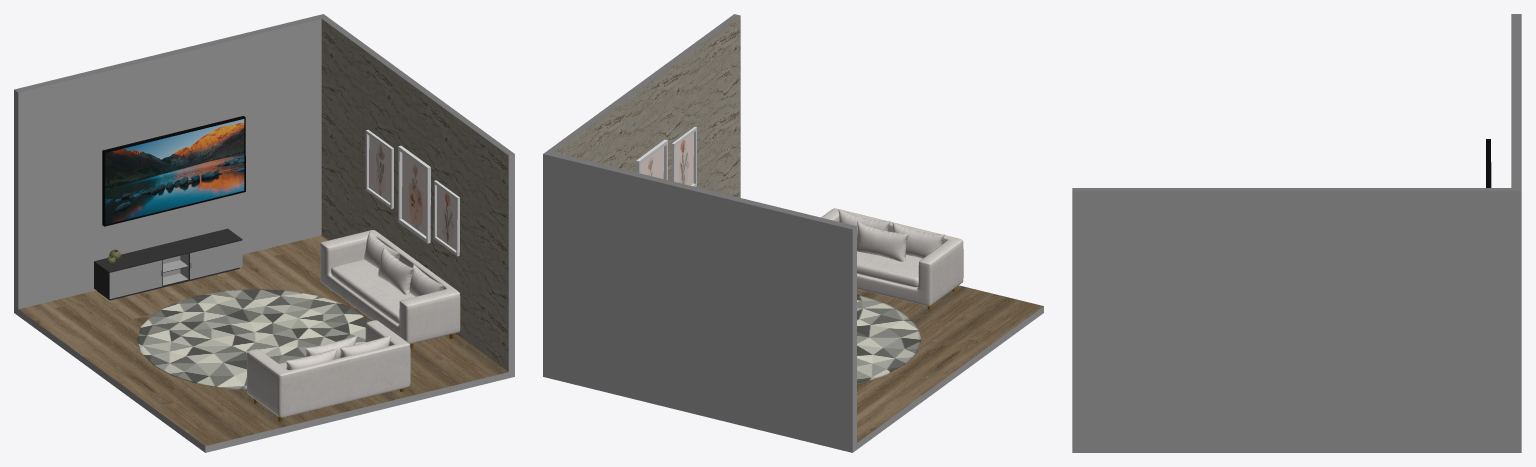
Rendered from outra sala.fbx.
The picture shows the model from 3 angles, left to right: view 1: azimuth 30°, elevation 25°; view 2: azimuth 150°, elevation 25°; view 3: azimuth 270°, elevation 25°; orthographic projection. The views are drawn at different scales.
Visible parts, largest first — view 1: pCube22, pDisc1, polySurface100, polySurface68, polySurface93, polySurface103, pCube35; view 2: pCube22, polySurface93, pDisc1, pCube35; view 3: pCube22.
Boxes of the visible parts, x1,y1,x2,y2 form: pCube22: (14,14,514,452); pDisc1: (137,289,368,390); polySurface100: (102,116,245,226); polySurface68: (320,230,460,348); polySurface93: (247,320,410,421); polySurface103: (94,228,242,300); pCube35: (365,129,459,256); pCube22: (543,14,1043,452); polySurface93: (821,208,963,309); pDisc1: (857,294,921,383); pCube35: (636,127,696,186); pCube22: (1072,14,1521,452).
Size of the model in its own units: 54.18 by 37.35 by 57.99.
